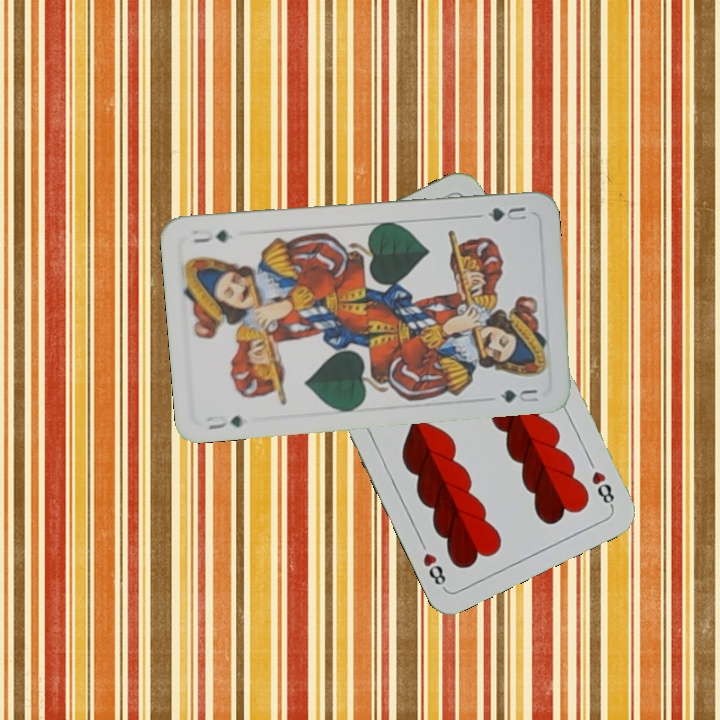GU: (483, 202, 529, 224), (202, 410, 246, 433)
H8: (587, 466, 617, 511)
